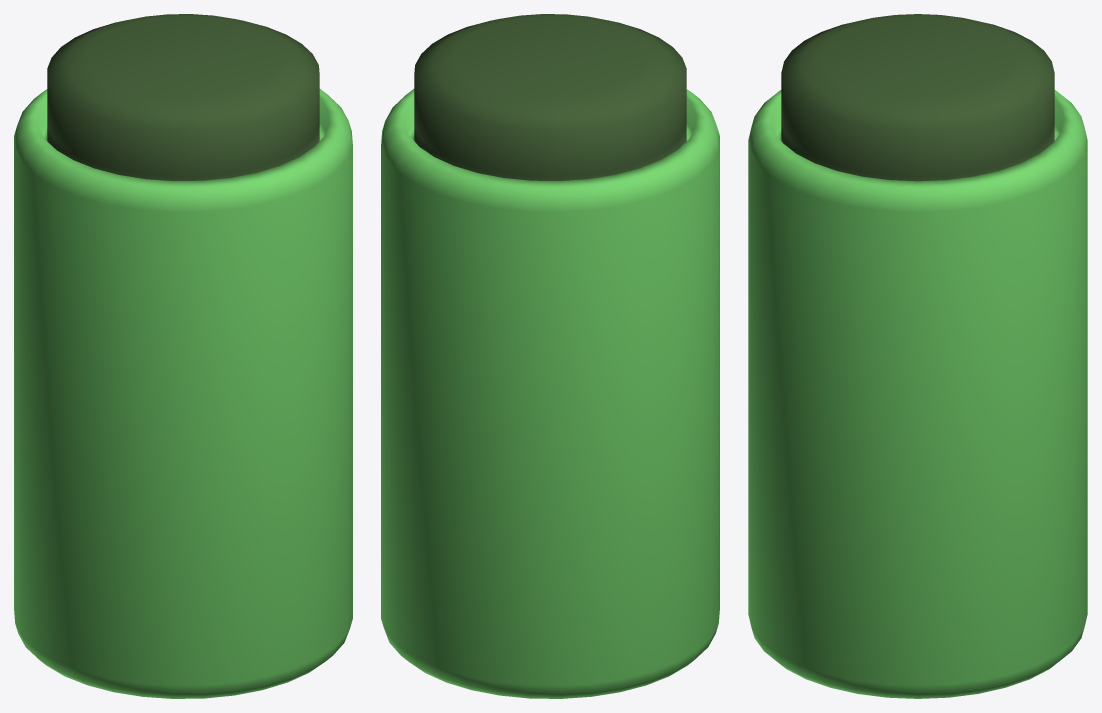
Rendered from Map_Pole03.fbx.
The picture shows the model from 3 angles, left to right: view 1: azimuth 30°, elevation 25°; view 2: azimuth 150°, elevation 25°; view 3: azimuth 270°, elevation 25°; orthographic projection.
Visible parts, largest first — view 1: Cylinder.024; view 2: Cylinder.024; view 3: Cylinder.024.
Boxes of the visible parts, <box> form: Cylinder.024: <box>14,14,352,698</box>; Cylinder.024: <box>381,14,719,698</box>; Cylinder.024: <box>748,14,1087,698</box>.
Bounding box in the file's own units: 134 × 252 × 134.
